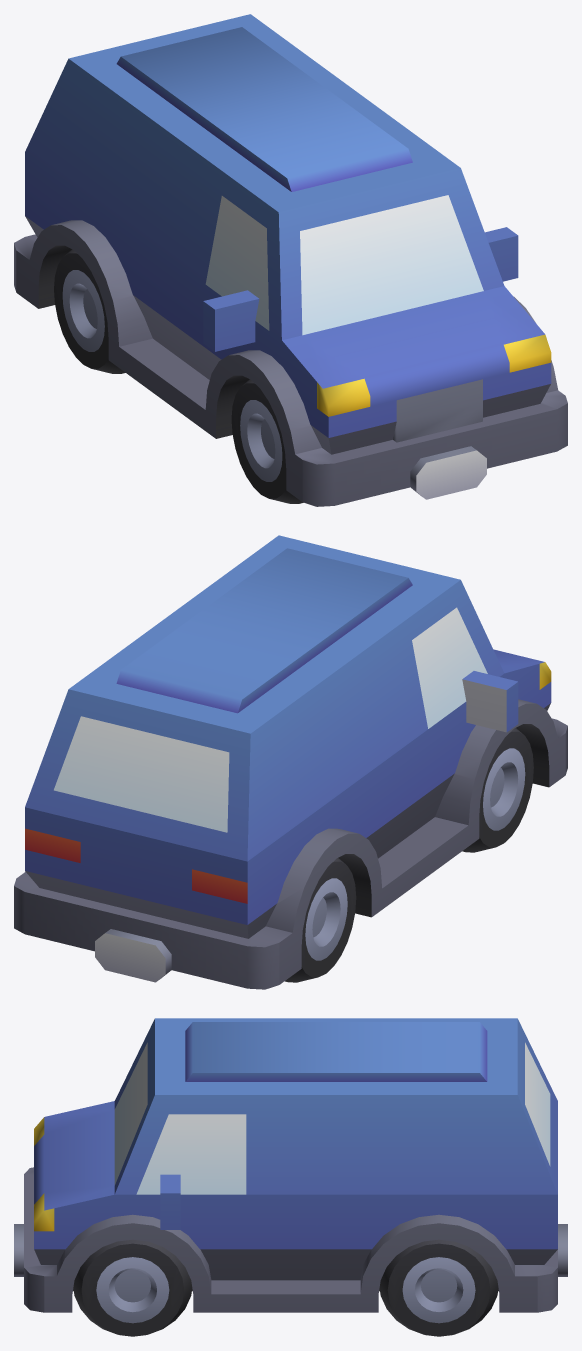
The model's file is van.glb.
3 renders of one model, top to bottom at view 1: azimuth 30°, elevation 25°; view 2: azimuth 150°, elevation 25°; view 3: azimuth 270°, elevation 25°, orthographic. The views are drawn at different scales.
Visible parts, largest first — view 1: body, wheel-front-right, wheel-back-right; view 2: body, wheel-back-right, wheel-front-right; view 3: body, wheel-front-left, wheel-back-left.
Part boxes in pixels (x1,y1,x2,y2): body: (14, 14, 567, 506); wheel-front-right: (231, 379, 303, 503); wheel-back-right: (54, 249, 125, 373); body: (14, 535, 567, 989); wheel-back-right: (285, 858, 356, 982); wheel-front-right: (462, 728, 533, 852); body: (14, 1018, 567, 1312); wheel-front-left: (73, 1239, 192, 1336); wheel-back-left: (379, 1239, 498, 1336).
Bounding box in the file's own units: 1.5 × 1.35 × 2.75.
Materials: 1 (1 with a texture image).
